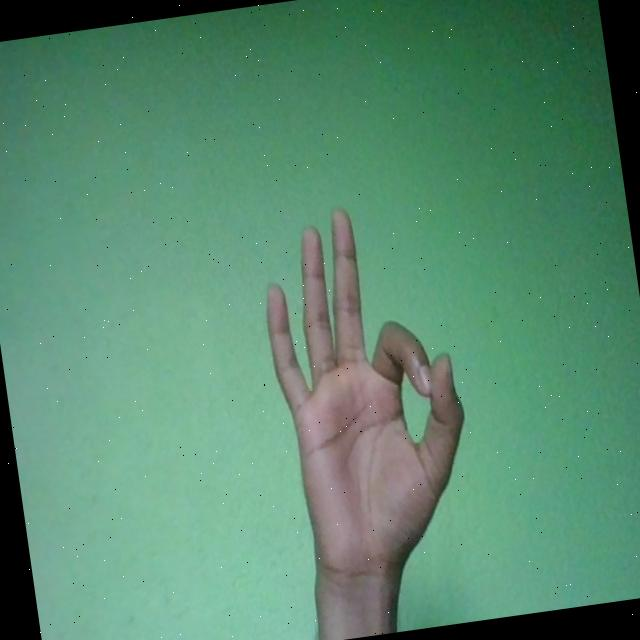Rock On: (254, 194, 486, 592)
